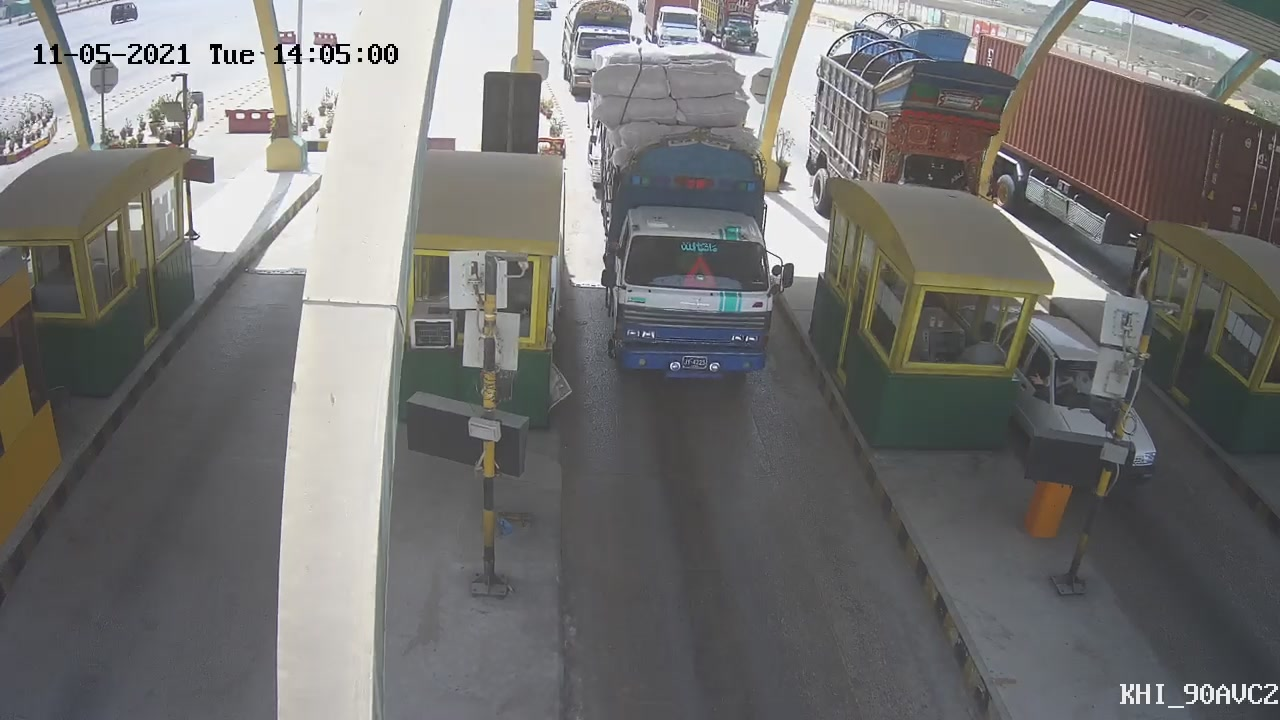F5: (595, 51, 799, 401)
